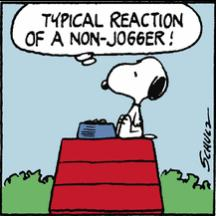snoopy: (98, 52, 170, 138)
